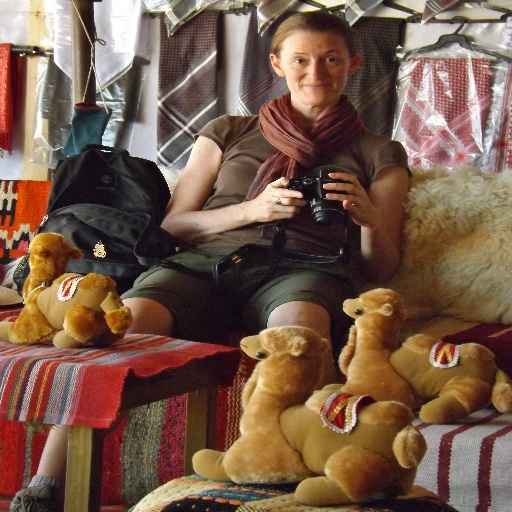hand: (232, 177, 310, 225), (321, 170, 381, 231)
